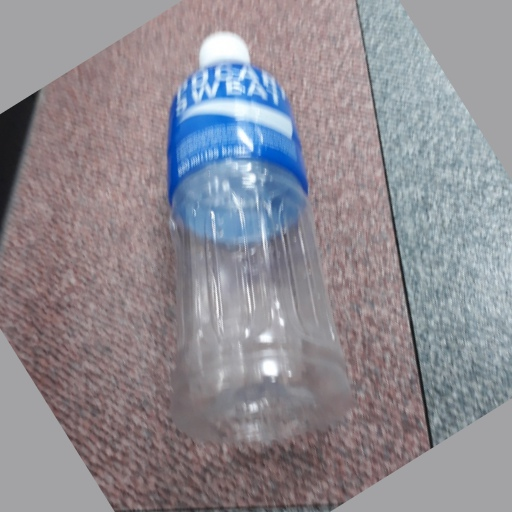Plastic_0: (163, 30, 352, 449)
